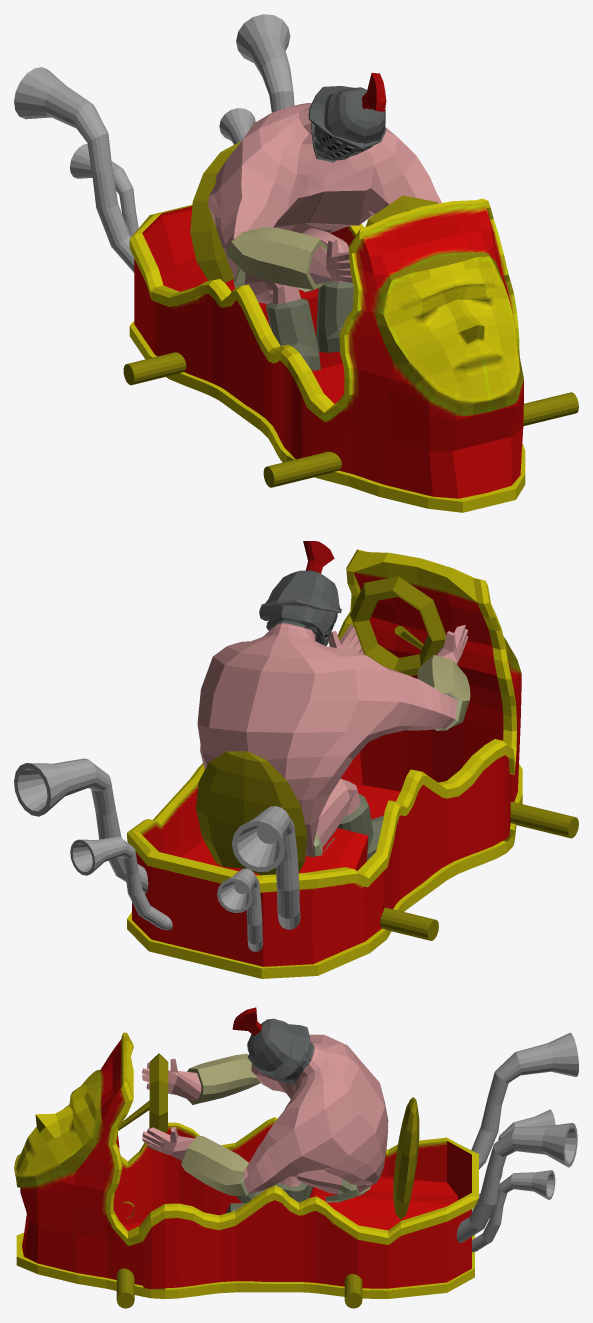
File: GladiGiroIzq_000543.obj
3 renders of one model, top to bottom at view 1: azimuth 30°, elevation 25°; view 2: azimuth 150°, elevation 25°; view 3: azimuth 270°, elevation 25°, orthographic. The views are drawn at different scales.
Parts seen in each view (by area): view 1: GladiChasis_GladiChasisH, Gadiador_Gladiador_H, GladiTubos_GladiTubosH, GladiVolante_GladiVolanteH; view 2: GladiChasis_GladiChasisH, Gadiador_Gladiador_H, GladiVolante_GladiVolanteH, GladiTubos_GladiTubosH; view 3: GladiChasis_GladiChasisH, Gadiador_Gladiador_H, GladiTubos_GladiTubosH, GladiVolante_GladiVolanteH.
Part boxes in pixels (box(x1,y1,x2,y2)): GladiChasis_GladiChasisH: box(129, 198, 525, 512); Gadiador_Gladiador_H: box(208, 72, 441, 370); GladiTubos_GladiTubosH: box(14, 14, 294, 272); GladiVolante_GladiVolanteH: box(123, 141, 578, 487); GladiChasis_GladiChasisH: box(127, 549, 522, 978); Gadiador_Gladiador_H: box(197, 541, 470, 861); GladiVolante_GladiVolanteH: box(196, 576, 578, 940); GladiTubos_GladiTubosH: box(14, 758, 300, 951); GladiChasis_GladiChasisH: box(14, 1032, 478, 1298); Gadiador_Gladiador_H: box(142, 1007, 388, 1213); GladiTubos_GladiTubosH: box(456, 1032, 578, 1252); GladiVolante_GladiVolanteH: box(116, 1053, 419, 1308).
Size of the model in its own units: 5.46 by 5.46 by 10.78.
4 materials, 4 textured.
